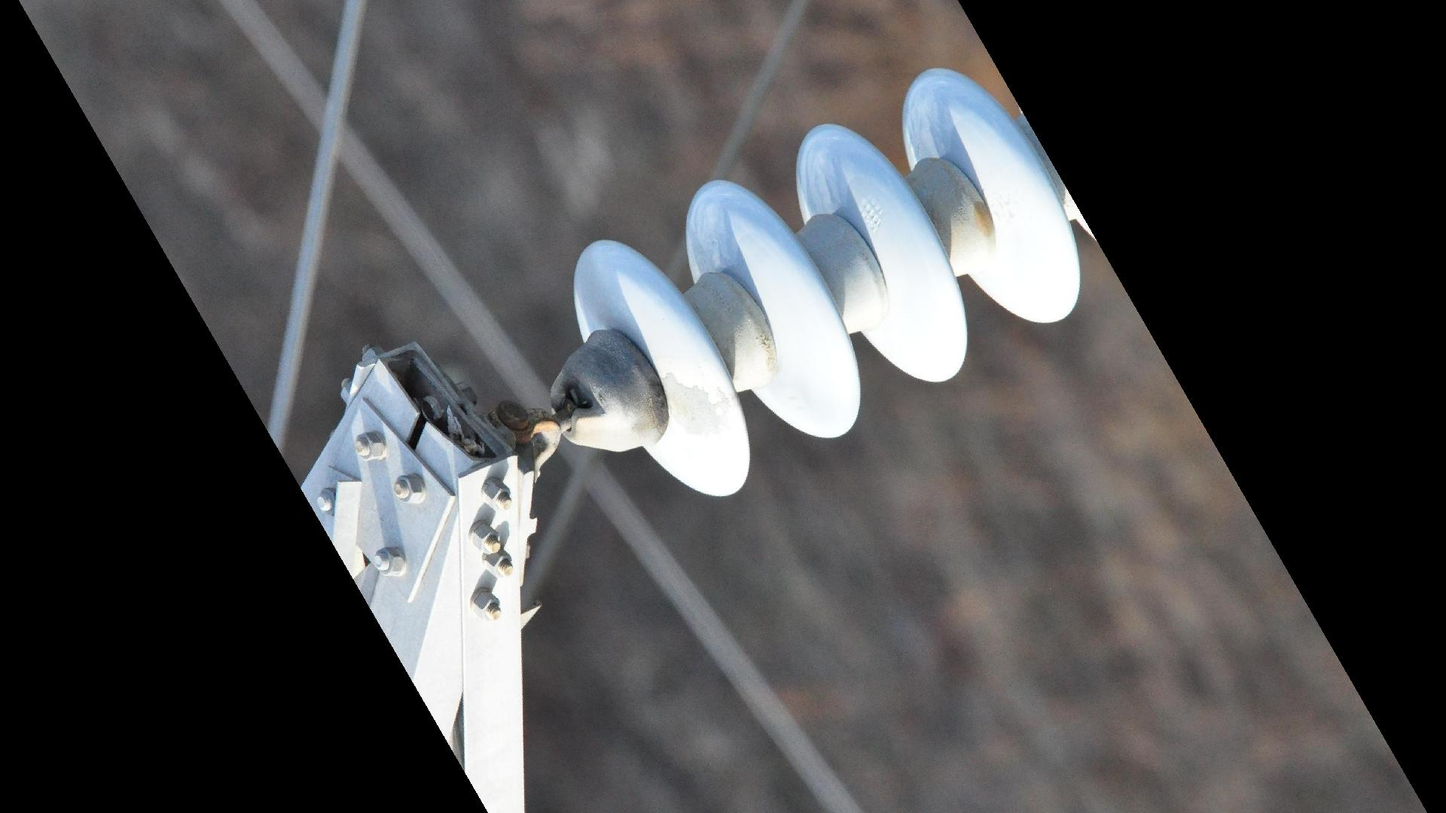insulator: (563, 61, 1092, 507)
insulator_flashover: (657, 371, 746, 458)
